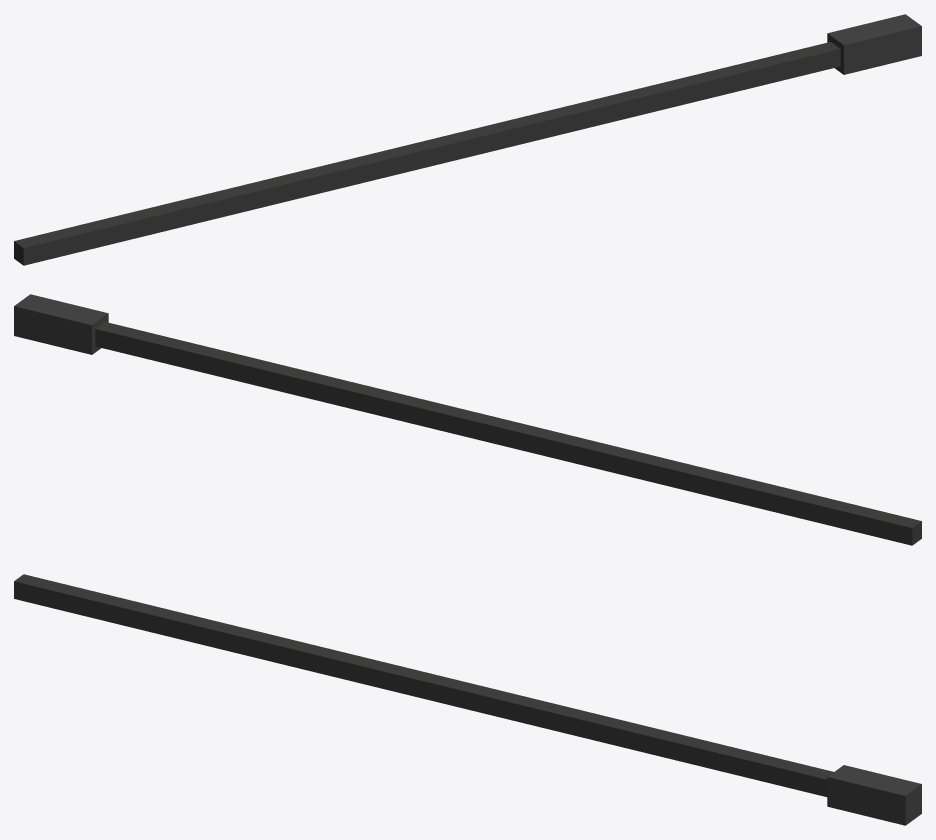
Rendered from Cable_B_1_3.fbx.
The picture shows the model from 3 angles, top to bottom: view 1: azimuth 30°, elevation 25°; view 2: azimuth 150°, elevation 25°; view 3: azimuth 330°, elevation 25°; orthographic projection.
Visible parts, largest first — view 1: Cable_B_1_3; view 2: Cable_B_1_3; view 3: Cable_B_1_3.
Boxes of the visible parts, x1,y1,x2,y2 form: Cable_B_1_3: (14,14,921,265); Cable_B_1_3: (14,294,921,545); Cable_B_1_3: (14,574,921,825).
Bounding box in the file's own units: 309 × 9.83 × 9.83.
